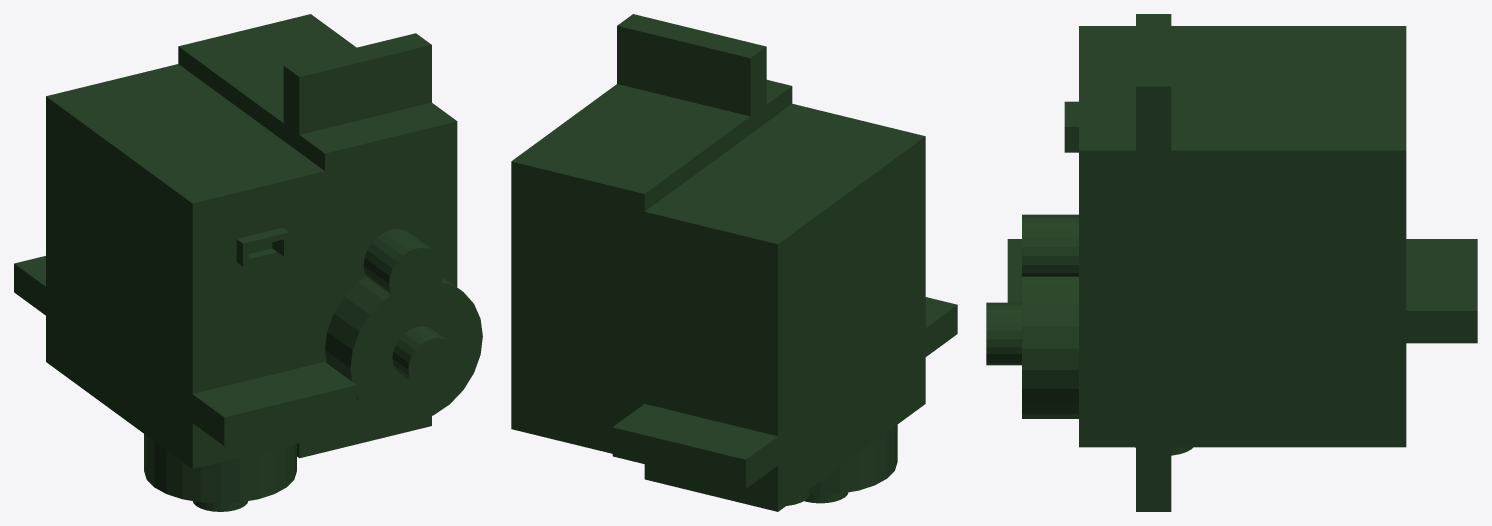
The model's file is ant_head_vis_1.dae.
The picture shows the model from 3 angles, left to right: view 1: azimuth 30°, elevation 25°; view 2: azimuth 150°, elevation 25°; view 3: azimuth 270°, elevation 25°; orthographic projection. The views are drawn at different scales.
Visible parts, largest first — view 1: node; view 2: node; view 3: node.
Part boxes in pixels (x1=…): node: x1=14, y1=14, x2=482, y2=511; node: x1=511, y1=14, x2=957, y2=511; node: x1=986, y1=14, x2=1477, y2=511.
Bounding box in the file's own units: 0.036 × 0.054 × 0.0518.
